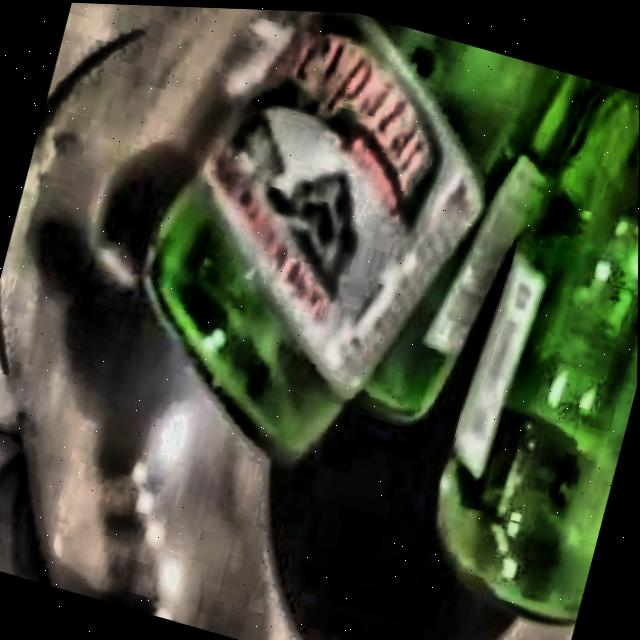glass: (144, 9, 640, 622)
